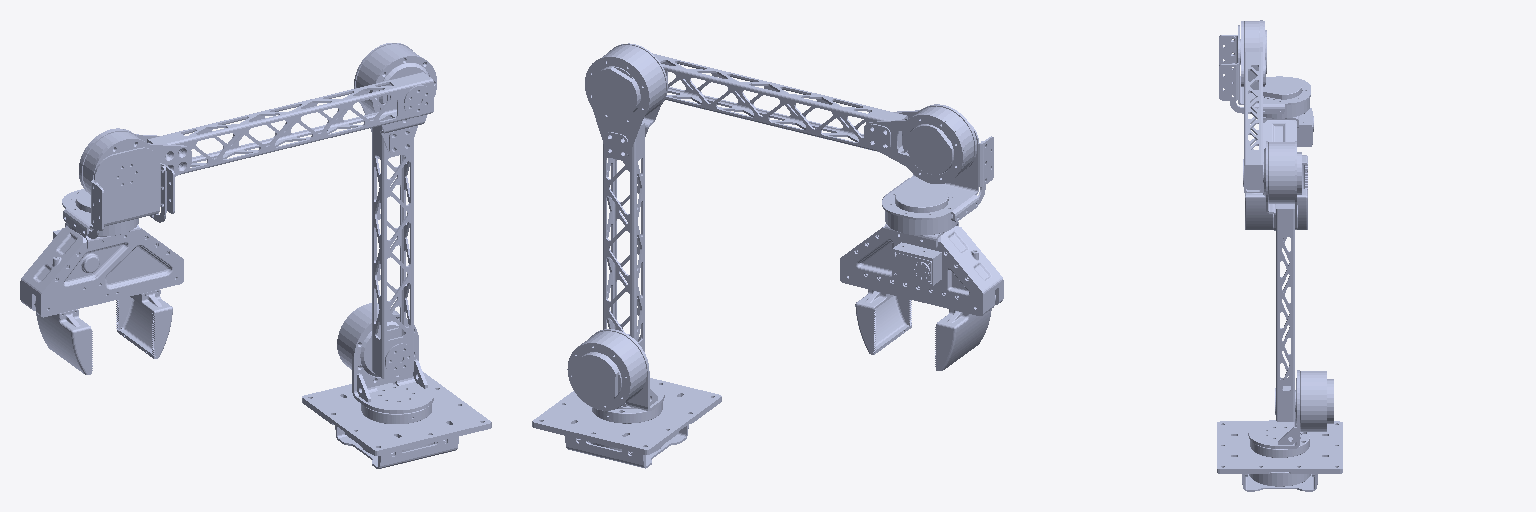
URDF robot description (AssemblyURDF_27.04.26):
<?xml version="1.0" encoding="utf-8"?>
<!-- This URDF was automatically created by SolidWorks to URDF Exporter! Originally created by Stephen Brawner (brawner@gmail.com) 
     Commit Version: 1.6.0-4-g7f85cfe  Build Version: 1.6.7995.38578
     For more information, please see http://wiki.ros.org/sw_urdf_exporter -->
<robot
  name="AssemblyURDF_27.04.26">
  <link
    name="base_link">
    <inertial>
      <origin
        xyz="-6.6061E-10 0.1 -0.011297"
        rpy="0 0 0" />
      <mass
        value="0.27577" />
      <inertia
        ixx="0.00070986"
        ixy="4.5512E-13"
        ixz="-7.6717E-14"
        iyy="0.00076213"
        iyz="1.0278E-13"
        izz="0.0014484" />
    </inertial>
    <visual>
      <origin
        xyz="0 0 0"
        rpy="0 0 0" />
      <geometry>
        <mesh
          filename="package://arm_description/meshes/base_link.STL" />
      </geometry>
      <material
        name="">
        <color
          rgba="0.79216 0.81961 0.93333 1" />
      </material>
    </visual>
    <collision>
      <origin
        xyz="0 0 0"
        rpy="0 0 0" />
      <geometry>
        <mesh
          filename="package://arm_description/meshes/base_link.STL" />
      </geometry>
    </collision>
  </link>
  <link
    name="Link_1">
    <inertial>
      <origin
        xyz="6.0358E-05 0.0011086 -0.03127"
        rpy="0 0 0" />
      <mass
        value="0.42031" />
      <inertia
        ixx="0.0002909"
        ixy="3.1402E-07"
        ixz="4.1082E-07"
        iyy="0.00030758"
        iyz="-1.9225E-05"
        izz="0.00045826" />
    </inertial>
    <visual>
      <origin
        xyz="0 0 0"
        rpy="0 0 0" />
      <geometry>
        <mesh
          filename="package://arm_description/meshes/Link_1.STL" />
      </geometry>
      <material
        name="">
        <color
          rgba="0.79216 0.81961 0.93333 1" />
      </material>
    </visual>
    <collision>
      <origin
        xyz="0 0 0"
        rpy="0 0 0" />
      <geometry>
        <mesh
          filename="package://arm_description/meshes/Link_1.STL" />
      </geometry>
    </collision>
  </link>
  <joint
    name="Joint_1"
    type="revolute">
    <origin
      xyz="0 0.1 0.015"
      rpy="0 0 0" />
    <parent
      link="base_link" />
    <child
      link="Link_1" />
    <axis
      xyz="0 0 -1" />
    <limit
      lower="-3.14"
      upper="3.14"
      effort="22"
      velocity="65" />
    <dynamics
      damping="0.1"
      friction="0.51" />
  </joint>
  <link
    name="Link_2">
    <inertial>
      <origin
        xyz="4.7804E-05 0.046882 0.06574"
        rpy="0 0 0" />
      <mass
        value="0.59595" />
      <inertia
        ixx="0.0018516"
        ixy="-7.2642E-07"
        ixz="1.6241E-07"
        iyy="0.0020233"
        iyz="2.7281E-06"
        izz="0.00040429" />
    </inertial>
    <visual>
      <origin
        xyz="0 0 0"
        rpy="0 0 0" />
      <geometry>
        <mesh
          filename="package://arm_description/meshes/Link_2.STL" />
      </geometry>
      <material
        name="">
        <color
          rgba="0.79216 0.81961 0.93333 1" />
      </material>
    </visual>
    <collision>
      <origin
        xyz="0 0 0"
        rpy="0 0 0" />
      <geometry>
        <mesh
          filename="package://arm_description/meshes/Link_2.STL" />
      </geometry>
    </collision>
  </link>
  <joint
    name="Joint_2"
    type="revolute">
    <origin
      xyz="0 -0.008 0.062"
      rpy="0 0 0" />
    <parent
      link="Link_1" />
    <child
      link="Link_2" />
    <axis
      xyz="0 -1 0" />
    <limit
      lower="-3.14"
      upper="3.14"
      effort="120"
      velocity="5.03" />
    <dynamics
      damping="0.1"
      friction="4.7" />
  </joint>
  <link
    name="Link_3">
    <inertial>
      <origin
        xyz="-0.0999281037298112 0.0445425598769282 -4.59006714506049E-05"
        rpy="0 0 0" />
      <mass
        value="0.644031551845069" />
      <inertia
        ixx="0.000442461786452374"
        ixy="-2.94655466717913E-07"
        ixz="-2.96646662363513E-07"
        iyy="0.00272963298820677"
        iyz="7.40340638492832E-07"
        izz="0.00252173564832153" />
    </inertial>
    <visual>
      <origin
        xyz="0 0 0"
        rpy="0 0 0" />
      <geometry>
        <mesh
          filename="package://arm_description/meshes/Link_3.STL" />
      </geometry>
      <material
        name="">
        <color
          rgba="0.792156862745098 0.819607843137255 0.933333333333333 1" />
      </material>
    </visual>
    <collision>
      <origin
        xyz="0 0 0"
        rpy="0 0 0" />
      <geometry>
        <mesh
          filename="package://arm_description/meshes/Link_3.STL" />
      </geometry>
    </collision>
  </link>
  <joint
    name="Joint_3"
    type="revolute">
    <origin
      xyz="-0.00020682 -0.0507 0.39997"
      rpy="0 0 0" />
    <parent
      link="Link_2" />
    <child
      link="Link_3" />
    <axis
      xyz="0 1 0" />
    <limit
      lower="-3.14"
      upper="3.14"
      effort="120"
      velocity="5.03" />
    <dynamics
      damping="0.1"
      friction="4.7" />
  </joint>
  <link
    name="Link_4">
    <inertial>
      <origin
        xyz="6.3132E-05 0.017799 -0.010224"
        rpy="0 0 0" />
      <mass
        value="0.31013" />
      <inertia
        ixx="0.0002947"
        ixy="-3.1704E-07"
        ixz="-4.2418E-07"
        iyy="0.00041868"
        iyz="4.1535E-05"
        izz="0.00032039" />
    </inertial>
    <visual>
      <origin
        xyz="0 0 0"
        rpy="0 0 0" />
      <geometry>
        <mesh
          filename="package://arm_description/meshes/Link_4.STL" />
      </geometry>
      <material
        name="">
        <color
          rgba="0.79216 0.81961 0.93333 1" />
      </material>
    </visual>
    <collision>
      <origin
        xyz="0 0 0"
        rpy="0 0 0" />
      <geometry>
        <mesh
          filename="package://arm_description/meshes/Link_4.STL" />
      </geometry>
    </collision>
  </link>
  <joint
    name="Joint_4"
    type="revolute">
    <origin
      xyz="-0.45276 -0.003 0"
      rpy="0 0 0" />
    <parent
      link="Link_3" />
    <child
      link="Link_4" />
    <axis
      xyz="0 -1 0" />
    <limit
      lower="-3.14"
      upper="3.14"
      effort="22"
      velocity="65" />
    <dynamics
      damping="0.1"
      friction="0.51" />
  </joint>
  <link
    name="Link_5">
    <inertial>
      <origin
        xyz="-0.0031013 0.0048044 -0.062629"
        rpy="0 0 0" />
      <mass
        value="0.81029" />
      <inertia
        ixx="0.00049983"
        ixy="-1.1549E-06"
        ixz="1.7752E-06"
        iyy="0.002205"
        iyz="-7.8116E-06"
        izz="0.0020431" />
    </inertial>
    <visual>
      <origin
        xyz="0 0 0"
        rpy="0 0 0" />
      <geometry>
        <mesh
          filename="package://arm_description/meshes/Link_5.STL" />
      </geometry>
      <material
        name="">
        <color
          rgba="0.79216 0.81961 0.93333 1" />
      </material>
    </visual>
    <collision>
      <origin
        xyz="0 0 0"
        rpy="0 0 0" />
      <geometry>
        <mesh
          filename="package://arm_description/meshes/Link_5.STL" />
      </geometry>
    </collision>
  </link>
  <joint
    name="Joint_5"
    type="revolute">
    <origin
      xyz="0 0.061 -0.0685"
      rpy="0 0 0" />
    <parent
      link="Link_4" />
    <child
      link="Link_5" />
    <axis
      xyz="0 0 1" />
    <limit
      lower="-3.14"
      upper="3.14"
      effort="22"
      velocity="65" />
    <dynamics
      damping="0.1"
      friction="0.51" />
  </joint>
  <link
    name="Finger_Left">
    <inertial>
      <origin
        xyz="-0.014436 -0.00087834 0.013756"
        rpy="0 0 0" />
      <mass
        value="0.087458" />
      <inertia
        ixx="9.5046E-05"
        ixy="-5.8637E-10"
        ixz="2.0824E-06"
        iyy="4.1825E-05"
        iyz="-2.1847E-07"
        izz="6.3904E-05" />
    </inertial>
    <visual>
      <origin
        xyz="0 0 0"
        rpy="0 0 0" />
      <geometry>
        <mesh
          filename="package://arm_description/meshes/Finger_Left.STL" />
      </geometry>
      <material
        name="">
        <color
          rgba="0.79216 0.81961 0.93333 1" />
      </material>
    </visual>
    <collision>
      <origin
        xyz="0 0 0"
        rpy="0 0 0" />
      <geometry>
        <mesh
          filename="package://arm_description/meshes/Finger_Left.STL" />
      </geometry>
    </collision>
  </link>
  <joint
    name="Finger_Left_Joint"
    type="prismatic">
    <origin
      xyz="0.078 -0.00544 -0.14458"
      rpy="3.1416 0 0" />
    <parent
      link="Link_5" />
    <child
      link="Finger_Left" />
    <axis
      xyz="-0.99999 -0.0032051 0" />
    <limit
      lower="0.0"
      upper="0.08"
      effort="7.3"
      velocity="5.55" />
    <dynamics
      damping="0.11"
      friction="0.01" />
  </joint>
  <link
    name="Finger_Right">
    <inertial>
      <origin
        xyz="-0.014511 0.00096247 0.017816"
        rpy="0 0 0" />
      <mass
        value="0.081445" />
      <inertia
        ixx="9.505E-05"
        ixy="2.1382E-09"
        ixz="2.2214E-06"
        iyy="4.0657E-05"
        iyz="4.4265E-07"
        izz="6.4244E-05" />
    </inertial>
    <visual>
      <origin
        xyz="0 0 0"
        rpy="0 0 0" />
      <geometry>
        <mesh
          filename="package://arm_description/meshes/Finger_Right.STL" />
      </geometry>
      <material
        name="">
        <color
          rgba="0.79216 0.81961 0.93333 1" />
      </material>
    </visual>
    <collision>
      <origin
        xyz="0 0 0"
        rpy="0 0 0" />
      <geometry>
        <mesh
          filename="package://arm_description/meshes/Finger_Right.STL" />
      </geometry>
    </collision>
  </link>
  <joint
    name="Finger_Right_Joint"
    type="prismatic">
    <origin
      xyz="-0.078 -0.00494 -0.14458"
      rpy="3.1416 0 3.1416" />
    <parent
      link="Link_5" />
    <child
      link="Finger_Right" />
    <axis
      xyz="-0.99999 -0.0032051 0" />
    <limit
      lower="0.0"
      upper="0.08"
      effort="7.3"
      velocity="5.55" />
    <dynamics
      damping="0.11"
      friction="0.01" />
    <mimic
      joint="Finger_Left_Joint"
      multiplier="1"
      offset="0" />
  </joint>
</robot>

--- What the picture shows (computed from the rendered views, not written in the file) ---
The picture shows the robot from 3 angles, left to right: view 1: azimuth 30°, elevation 25°; view 2: azimuth 150°, elevation 25°; view 3: azimuth 270°, elevation 25°; orthographic projection.
Robot: AssemblyURDF_27.04.26 — 8 links, 7 joints (5 revolute, 2 prismatic); root link base_link; default pose: all joints at 0.
Links seen in each view (by area): view 1: Link_3, Link_2, Link_5, base_link, Link_4, Link_1, Finger_Left, Finger_Right; view 2: Link_3, Link_2, Link_5, base_link, Link_4, Finger_Left, Finger_Right, Link_1; view 3: Link_2, base_link, Link_3, Link_4, Link_1, Link_5, Finger_Left.
Boxes of the visible links, bbox=[...] form: Link_3: bbox=[79, 44, 433, 194]; Link_2: bbox=[337, 43, 436, 378]; Link_5: bbox=[20, 189, 183, 317]; base_link: bbox=[302, 372, 491, 468]; Link_4: bbox=[62, 132, 174, 238]; Link_1: bbox=[352, 314, 433, 454]; Finger_Left: bbox=[116, 289, 172, 358]; Finger_Right: bbox=[36, 309, 92, 374]; Link_3: bbox=[591, 45, 976, 183]; Link_2: bbox=[567, 43, 667, 410]; Link_5: bbox=[840, 185, 1003, 315]; base_link: bbox=[532, 378, 721, 468]; Link_4: bbox=[882, 106, 993, 221]; Finger_Left: bbox=[855, 289, 911, 354]; Finger_Right: bbox=[935, 309, 991, 370]; Link_1: bbox=[590, 329, 664, 453]; Link_2: bbox=[1266, 141, 1333, 431]; base_link: bbox=[1217, 421, 1342, 491]; Link_3: bbox=[1241, 20, 1301, 203]; Link_4: bbox=[1219, 21, 1310, 113]; Link_1: bbox=[1248, 370, 1310, 486]; Link_5: bbox=[1263, 76, 1313, 194]; Finger_Left: bbox=[1245, 189, 1307, 229].
Bounding box of the posed robot: 0.653 × 0.2 × 0.5875 m (x, y, z).
8 mesh visuals loaded from 8 distinct referenced files (8 binary STL).
